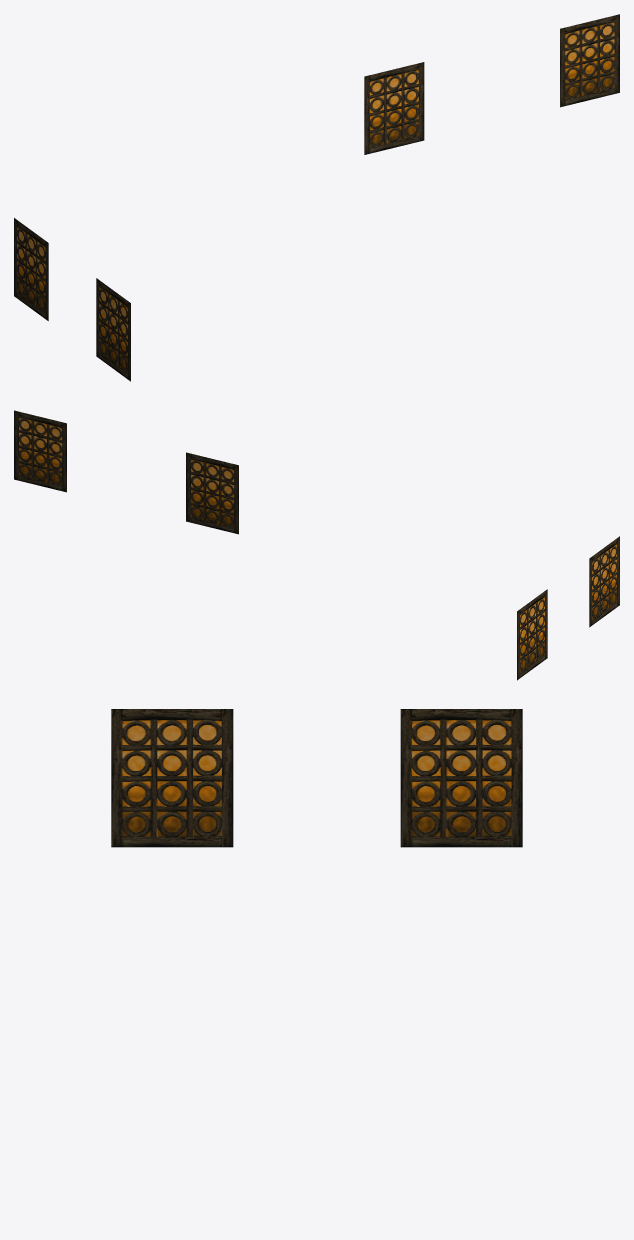
The model's file is LAKETOWN_EXTERIOR_PS_LT_ENT_WINDOWS33938.fbx.
3 renders of one model, top to bottom at view 1: azimuth 30°, elevation 25°; view 2: azimuth 150°, elevation 25°; view 3: azimuth 270°, elevation 25°, orthographic. The views are drawn at different scales.
Visible parts, largest first — view 1: LAKETOWN_EXTERIOR_PS_LT_ENT_WINDOWS33938; view 2: LAKETOWN_EXTERIOR_PS_LT_ENT_WINDOWS33938; view 3: LAKETOWN_EXTERIOR_PS_LT_ENT_WINDOWS33938.
Boxes of the visible parts, x1,y1,x2,y2 form: LAKETOWN_EXTERIOR_PS_LT_ENT_WINDOWS33938: [14, 14, 619, 381]; LAKETOWN_EXTERIOR_PS_LT_ENT_WINDOWS33938: [14, 410, 619, 680]; LAKETOWN_EXTERIOR_PS_LT_ENT_WINDOWS33938: [111, 709, 522, 847].
Bounding box in the file's own units: 114886 × 28112 × 39523.
1 material, 1 textured.
